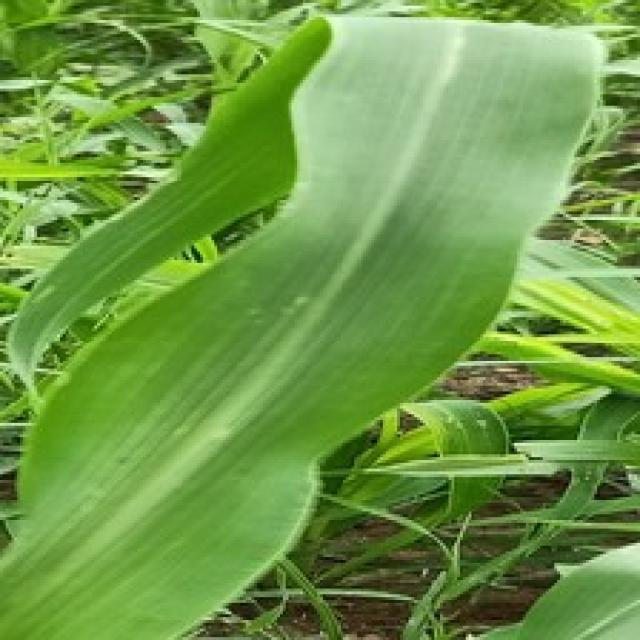Corn: (0, 12, 606, 637), (3, 14, 331, 409), (457, 526, 637, 637)
